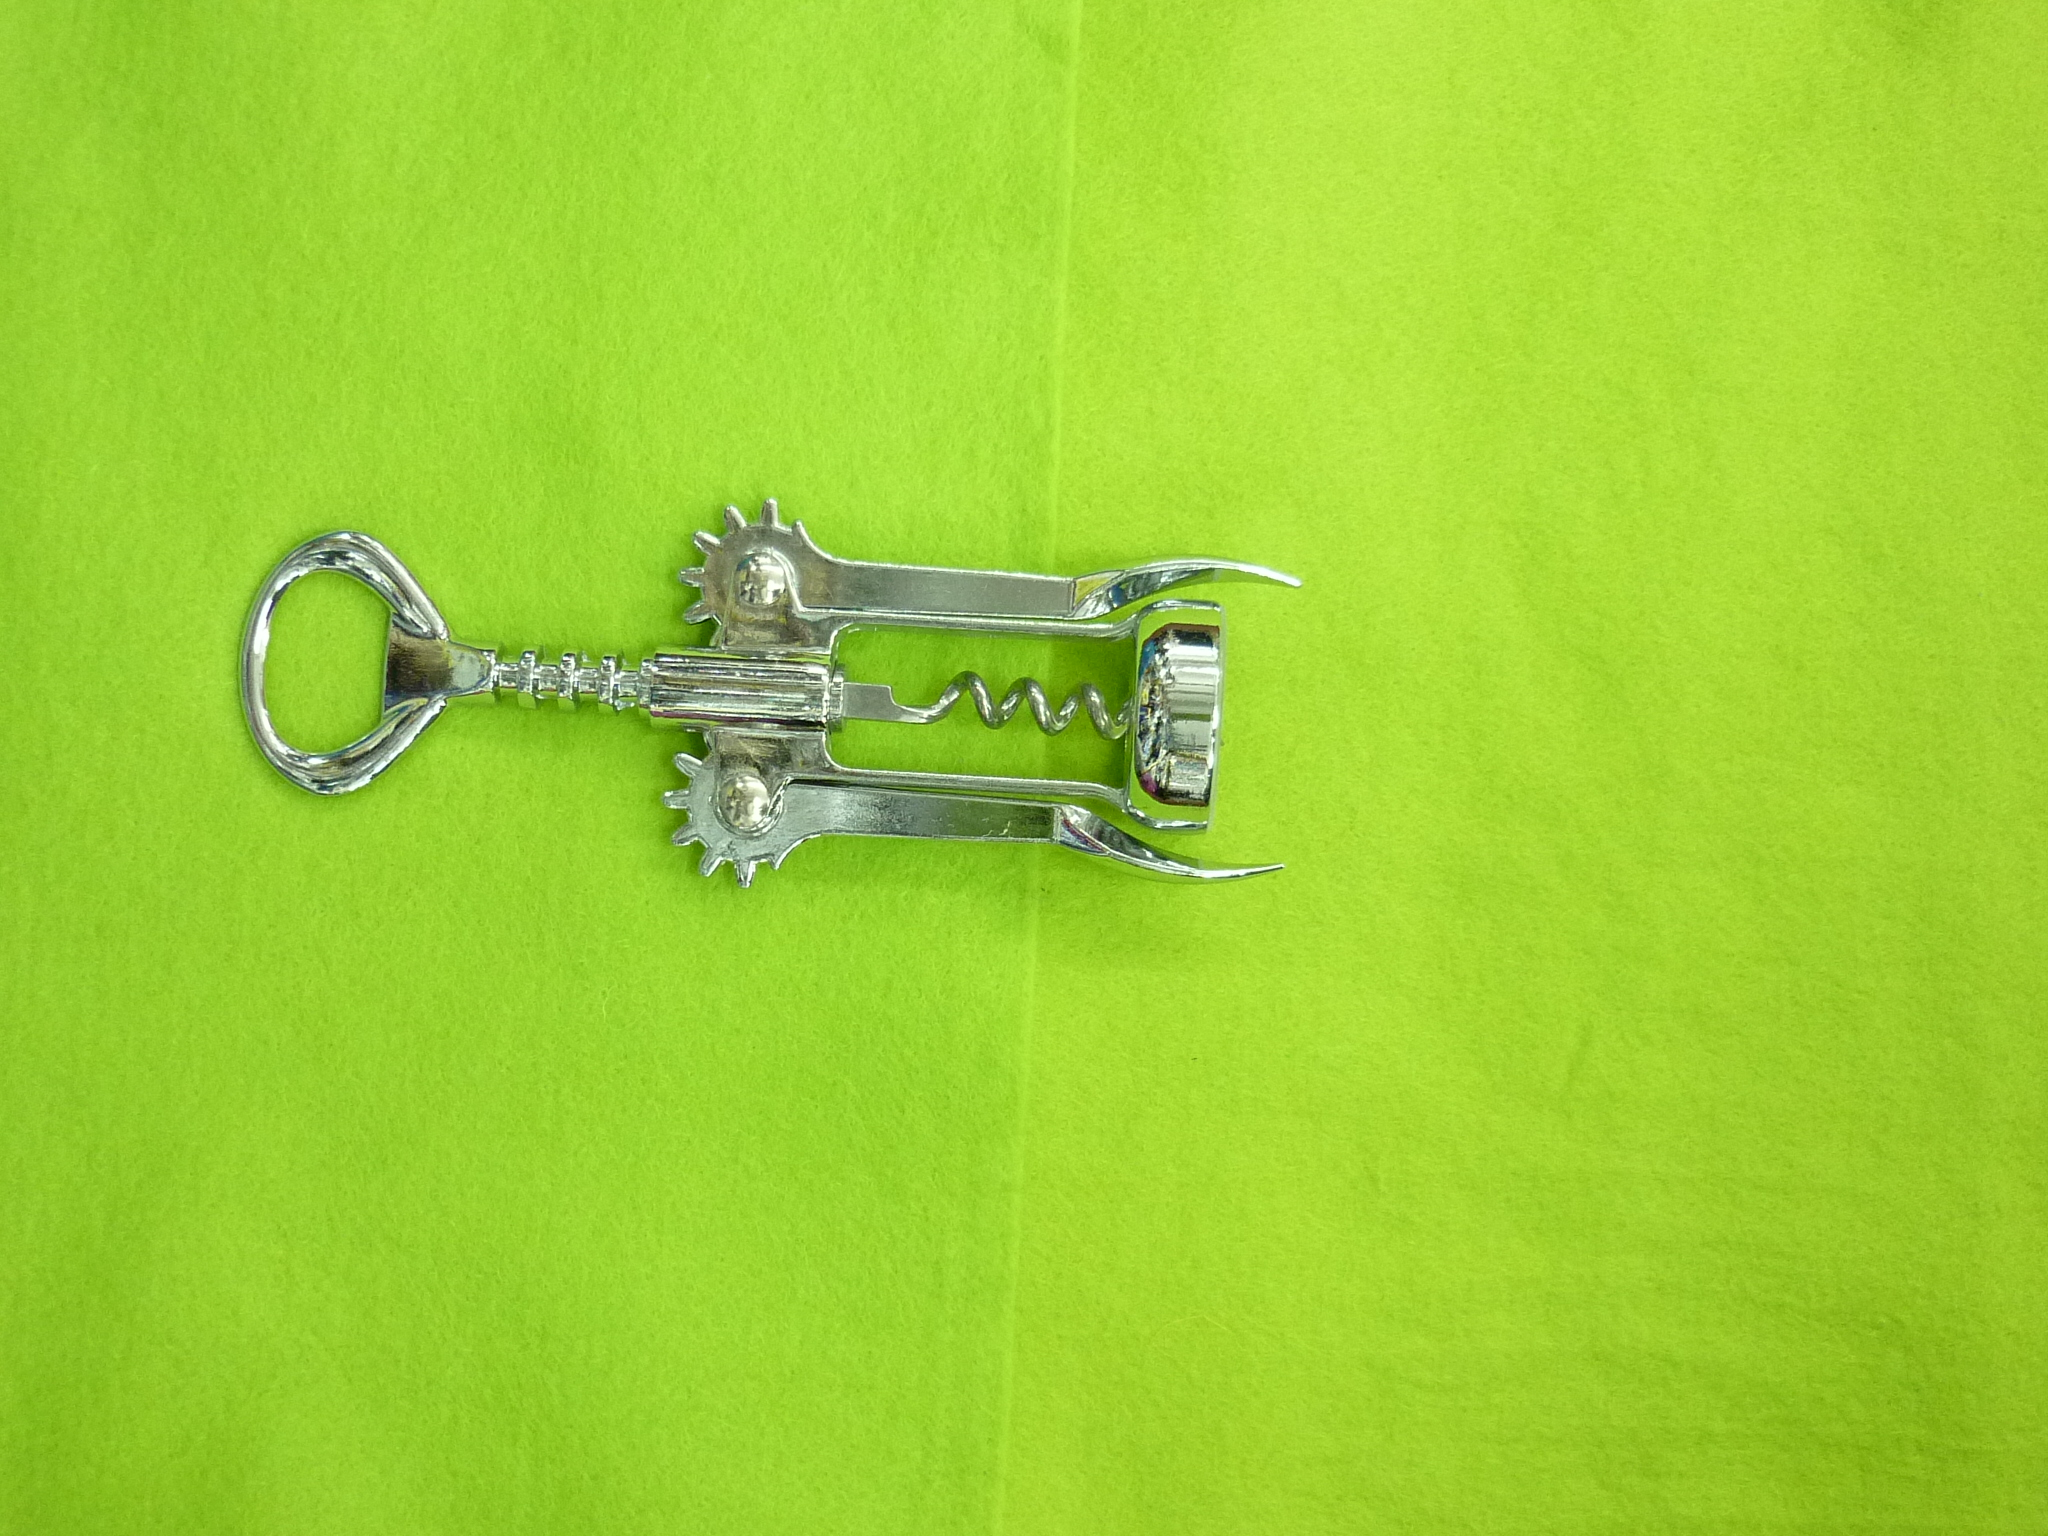bottleopener: (244, 499, 1305, 892)
